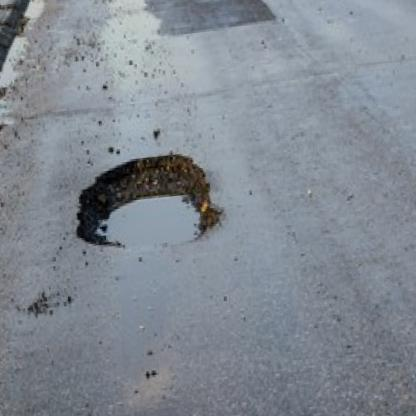pothole: (66, 145, 226, 261)
